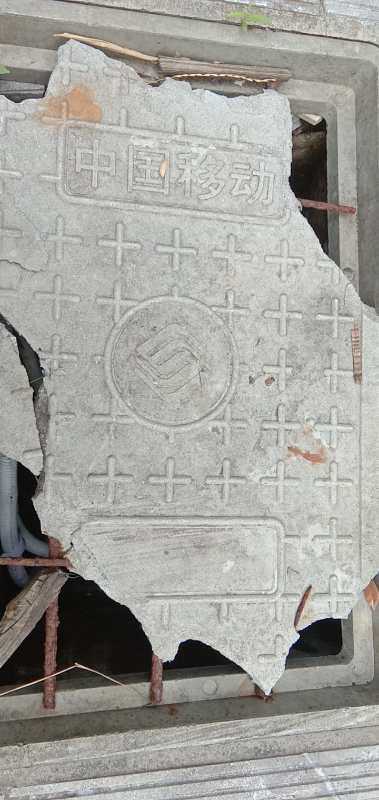broke: (2, 14, 379, 755)
